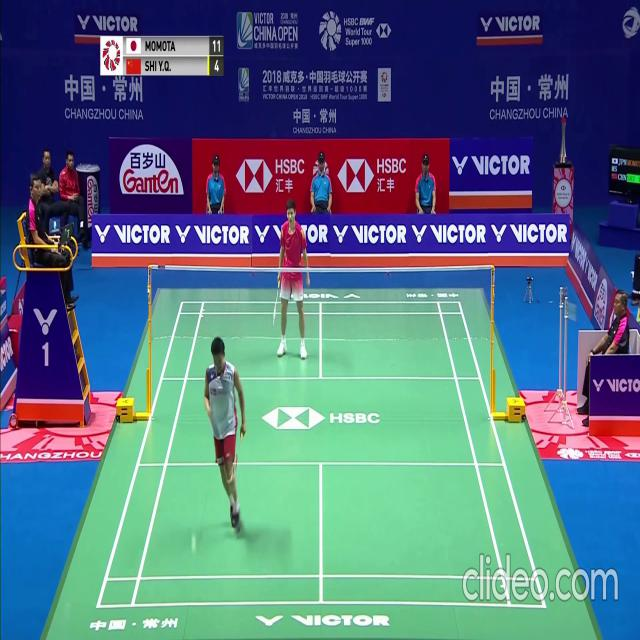Shuttlecock: (191, 543, 196, 550)
